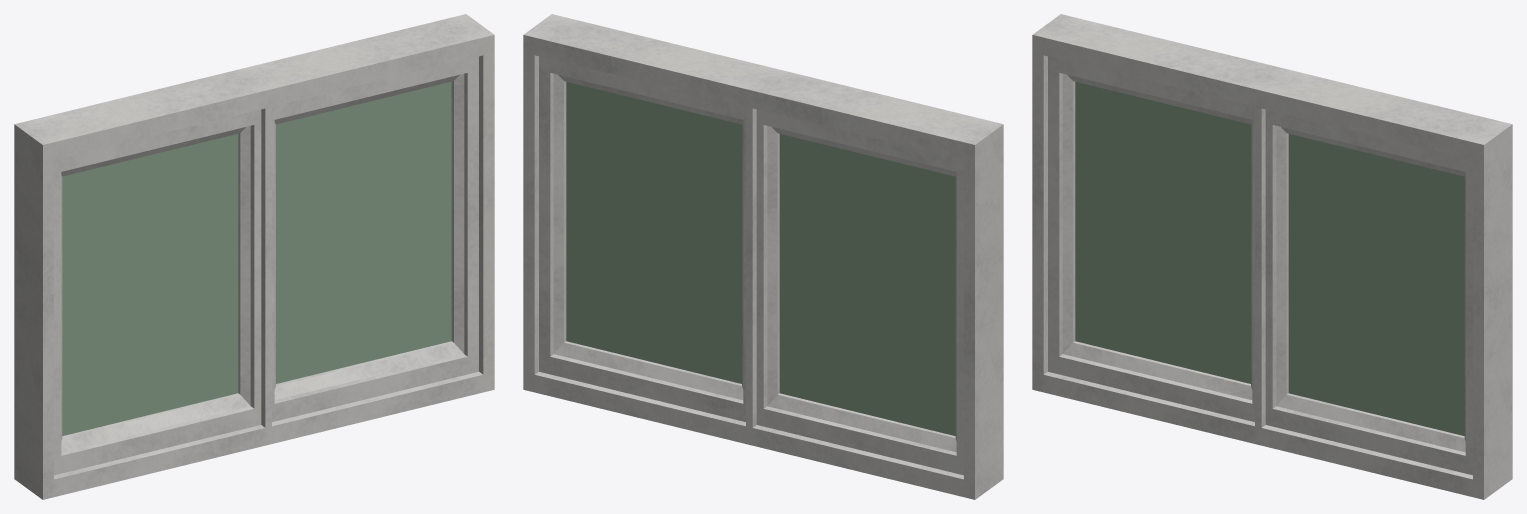
File: large_window.glb
3 renders of one model, left to right at view 1: azimuth 30°, elevation 25°; view 2: azimuth 150°, elevation 25°; view 3: azimuth 330°, elevation 25°, orthographic.
Parts seen in each view (by area): view 1: pCube3; view 2: pCube3; view 3: pCube3.
Part boxes in pixels (left/top/right/bottom): pCube3: left=14, top=14, right=494, bottom=499; pCube3: left=523, top=14, right=1003, bottom=499; pCube3: left=1032, top=14, right=1512, bottom=499.
Size of the model in its own units: 650 by 488 by 70.87.
2 materials, 2 textured.
